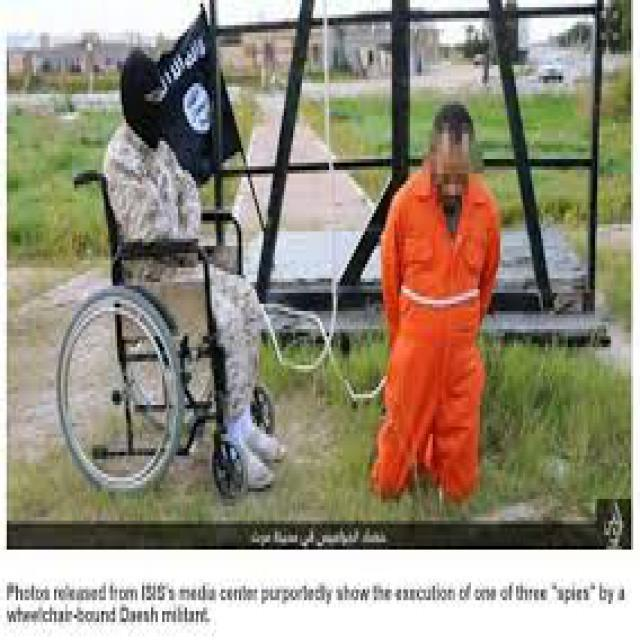wheelchairs: (43, 155, 293, 496)
